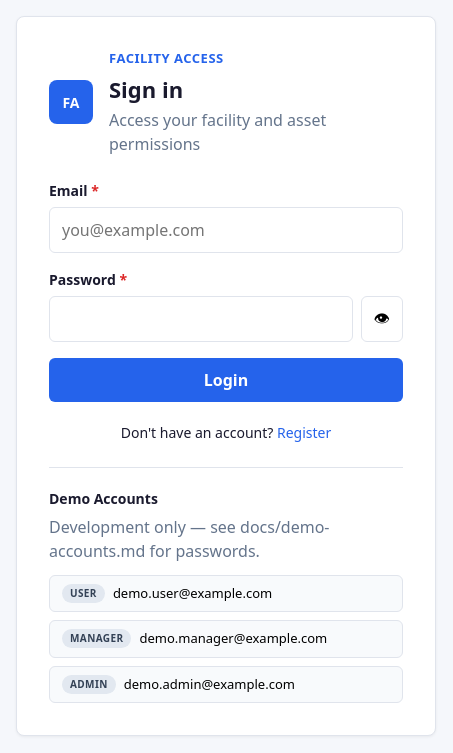
Test: Authentication › loading state works
The width and height of the screenshot is (453, 753).
Type "user@example.com" into the field labelled "Email *" at {"x": 226, "y": 230}, box [49, 206, 403, 252]
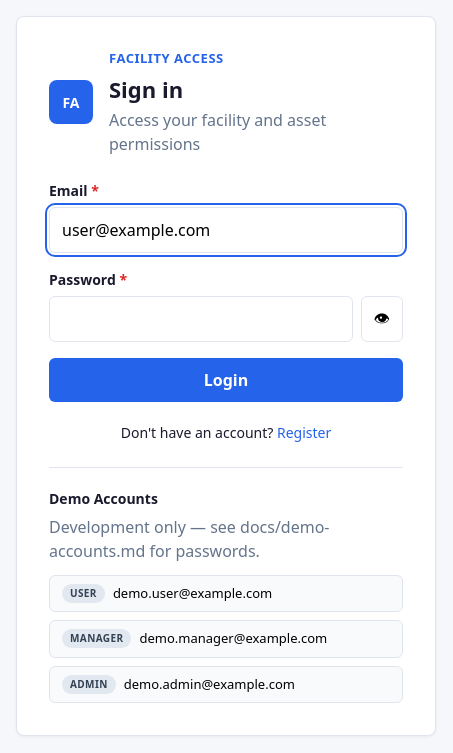
Type "password123" into the password field labelled "Password *" at {"x": 201, "y": 318}, box [49, 296, 353, 342]
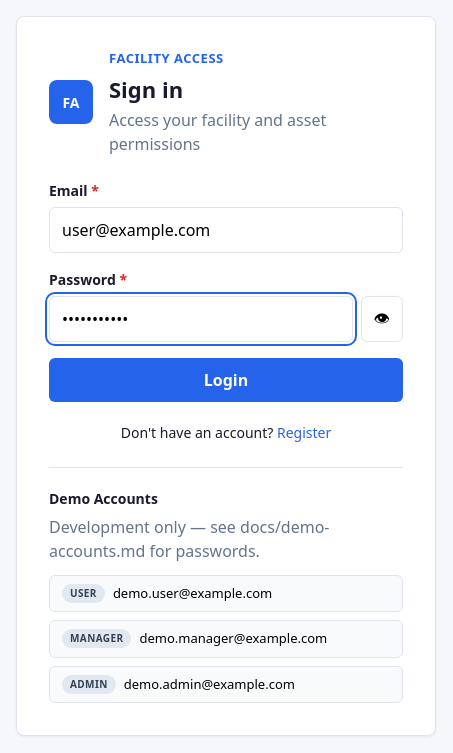
Click the button "Login" at {"x": 226, "y": 380}, box [49, 358, 403, 402]
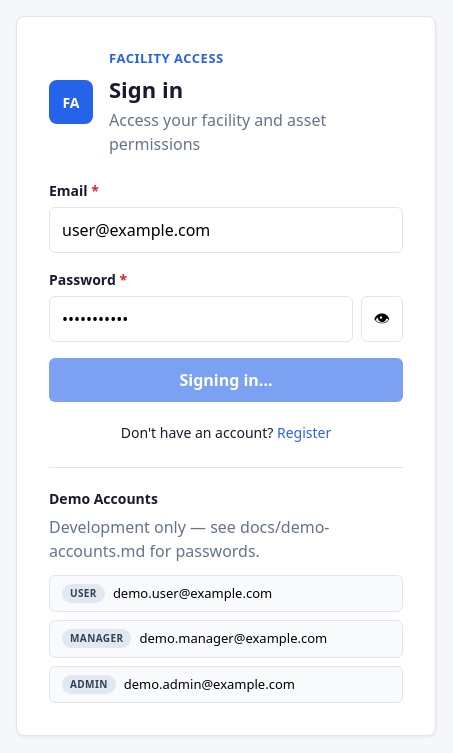
Now the button "Signing in..." is disabled, box [49, 358, 403, 402]
